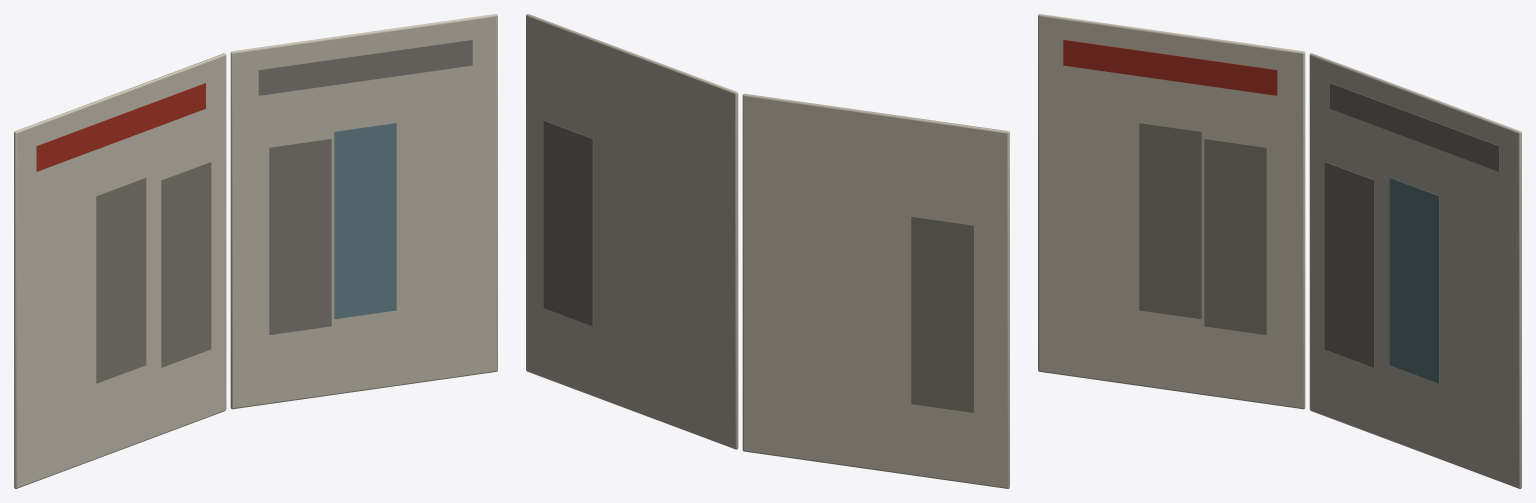
File: bao_mo.glb
3 views of the same model, side by side, from view 1: azimuth 30°, elevation 25°; view 2: azimuth 150°, elevation 25°; view 3: azimuth 330°, elevation 25° (orthographic).
Parts seen in each view (by area): view 1: bao_mo; view 2: bao_mo; view 3: bao_mo.
Boxes of the visible parts, box(x1,y1,x2,y2) form: bao_mo: box(14, 14, 497, 488); bao_mo: box(526, 14, 1009, 488); bao_mo: box(1038, 14, 1521, 488).
Size of the model in its own units: 0.594 by 0.42 by 0.0627.
